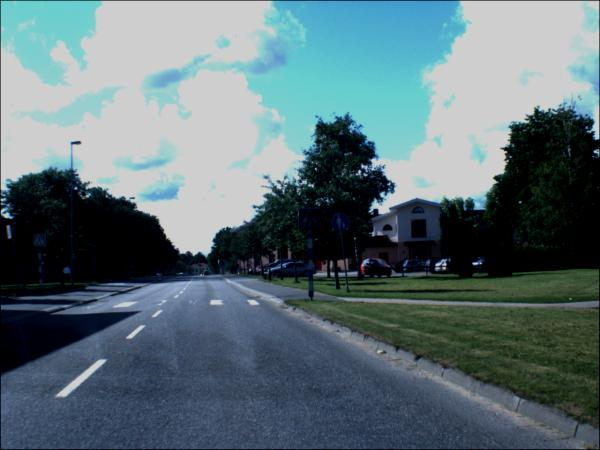PEDESTRIAN_CROSSING: (300, 210, 324, 232), (34, 235, 48, 249)
